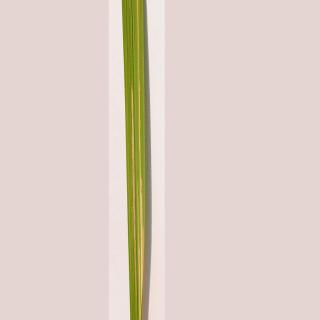Hawar-Daun: (125, 86, 156, 315)
